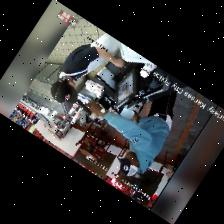person: (86, 91, 176, 175), (50, 33, 123, 102)
